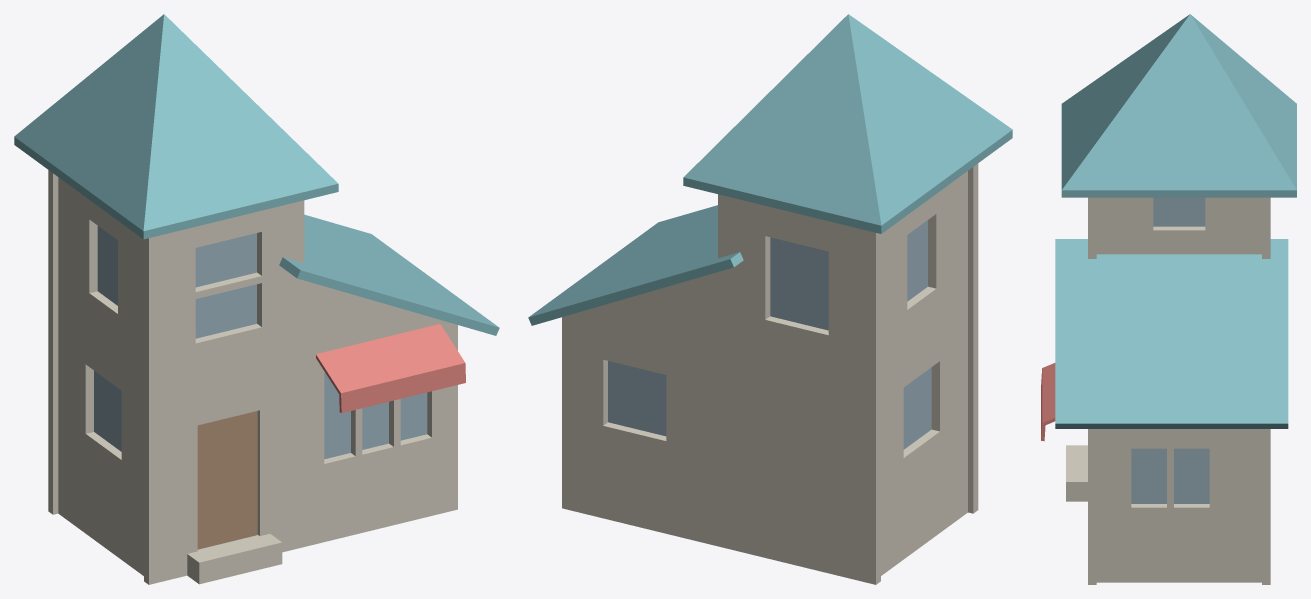
File: folded_tower.glb
The picture shows the model from 3 angles, left to right: view 1: azimuth 30°, elevation 25°; view 2: azimuth 150°, elevation 25°; view 3: azimuth 270°, elevation 25°; orthographic projection. The views are drawn at different scales.
Visible parts, largest first — view 1: folded_tower; view 2: folded_tower; view 3: folded_tower.
Boxes of the visible parts, box(x1,y1,x2,y2) form: folded_tower: box(14, 14, 499, 584); folded_tower: box(528, 14, 1012, 584); folded_tower: box(1041, 14, 1296, 584).
Bounding box in the file's own units: 1.7 × 2.36 × 1.18.
